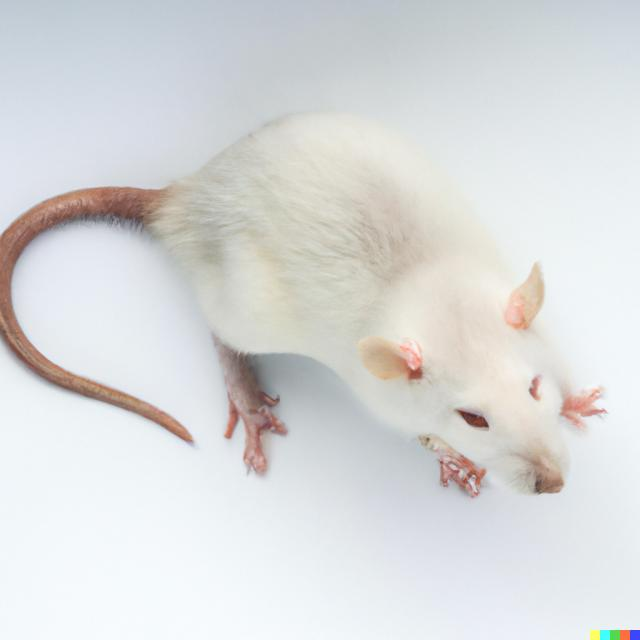rodents: (138, 88, 615, 540)
